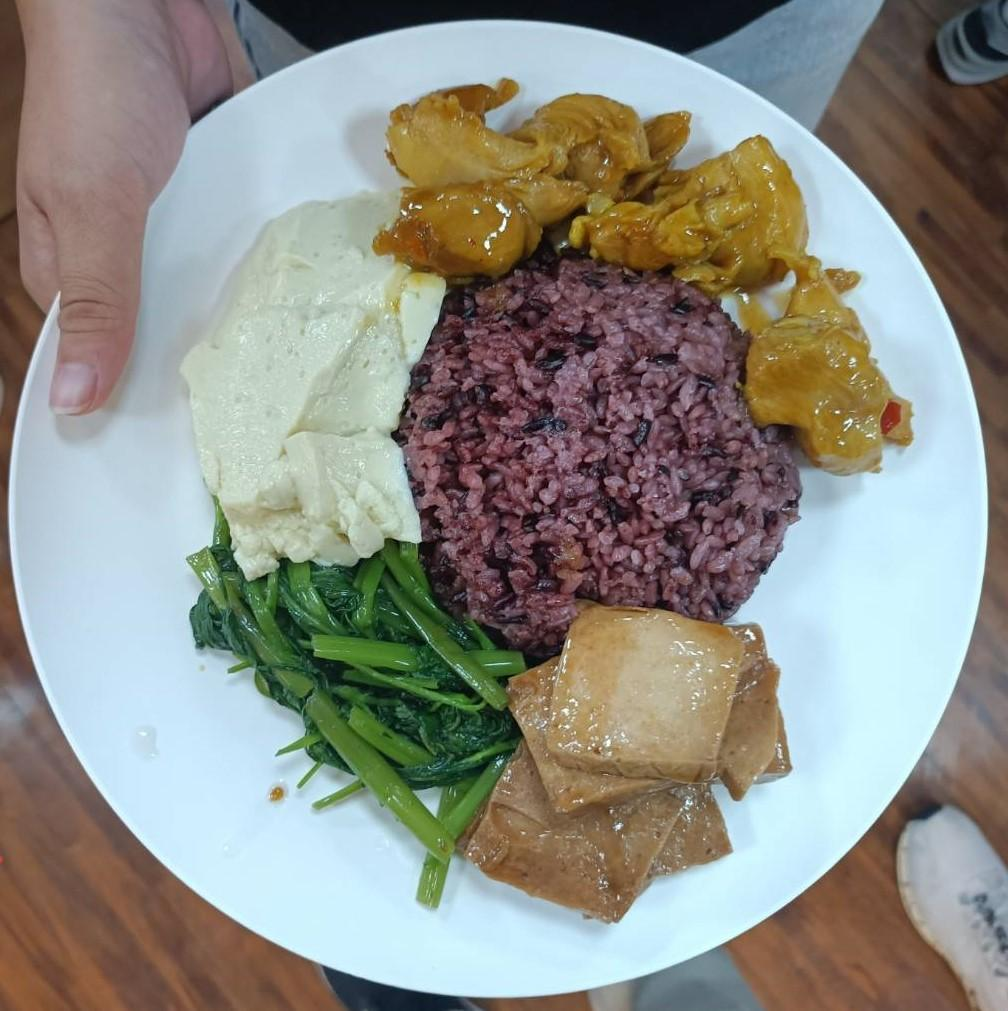big fried chicken leg: (28, 23, 982, 986)
braised fish fillet: (198, 540, 496, 850), (500, 645, 813, 904), (200, 203, 412, 550)
